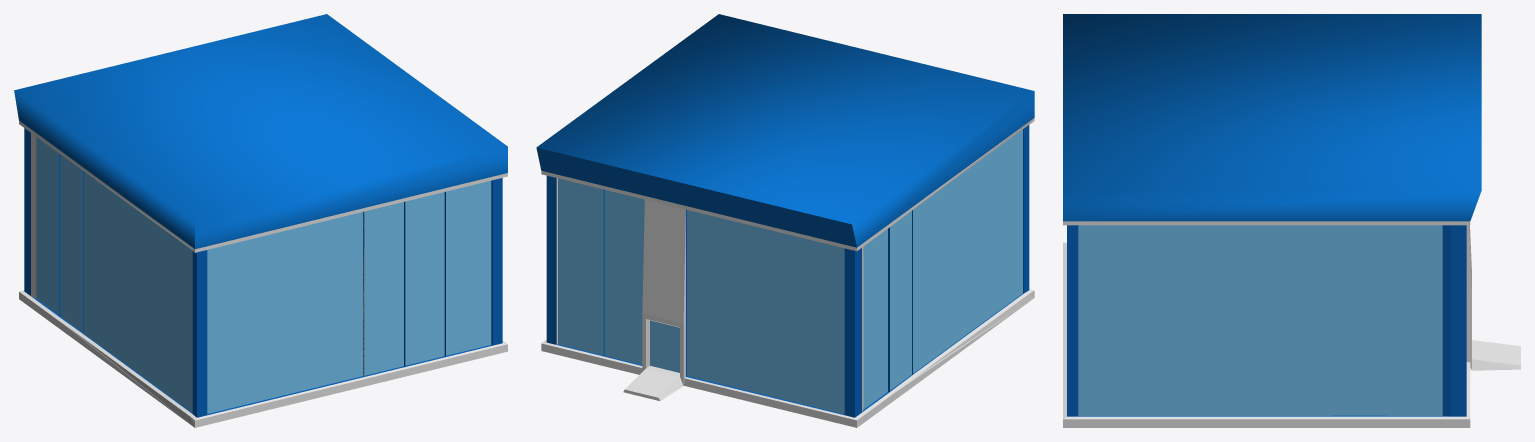
Rendered from Shop8x8x5Blue.fbx.
3 views of the same model, side by side, from view 1: azimuth 30°, elevation 25°; view 2: azimuth 150°, elevation 25°; view 3: azimuth 270°, elevation 25° (orthographic). The views are drawn at different scales.
Visible parts, largest first — view 1: Shop.001; view 2: Shop.001; view 3: Shop.001.
Boxes of the visible parts, x1,y1,x2,y2 form: Shop.001: [14, 14, 507, 427]; Shop.001: [536, 14, 1034, 427]; Shop.001: [1063, 14, 1520, 427].
Bounding box in the file's own units: 7.96 × 4.99 × 8.72.
1 material, 1 textured.
